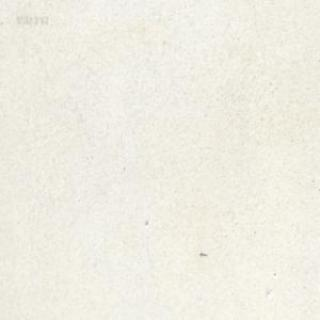Nailtrack_idkeyframe: (199, 251, 207, 256)
